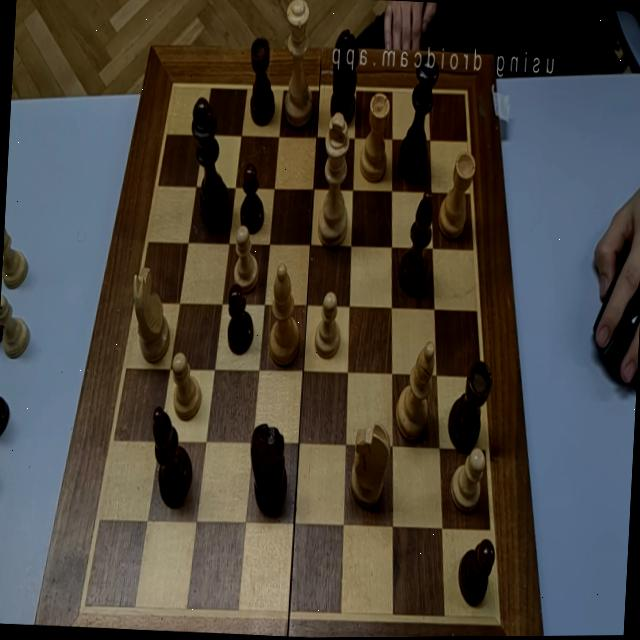black_bishop: (147, 406, 195, 510), (396, 189, 434, 299)
black_king: (186, 97, 236, 232)
black_knight: (247, 423, 290, 519), (330, 28, 360, 126)
black_pawn: (456, 538, 496, 608), (225, 285, 256, 356), (239, 162, 267, 236)
black_queen: (397, 54, 440, 187)
black_rook: (446, 360, 494, 456), (246, 36, 278, 128)
white_bishop: (394, 340, 436, 444), (268, 262, 304, 368)
white_king: (316, 112, 353, 250)
white_knight: (128, 267, 174, 365), (349, 421, 392, 510)
white_pawn: (449, 447, 486, 515), (170, 352, 204, 422), (232, 224, 262, 295), (314, 291, 342, 360)
white_queen: (280, 0, 318, 129)
white_rook: (436, 151, 476, 242), (358, 92, 391, 184)
